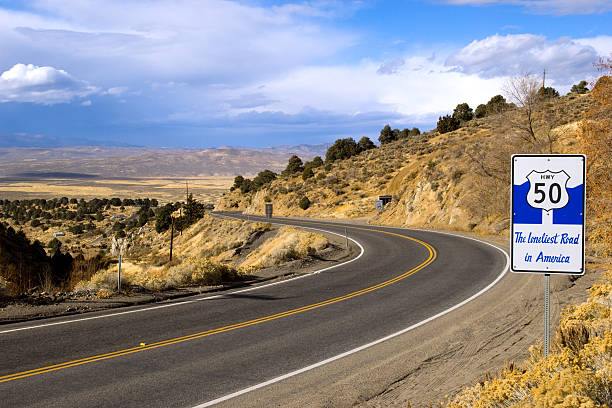leftTrun: (293, 213, 495, 307)
